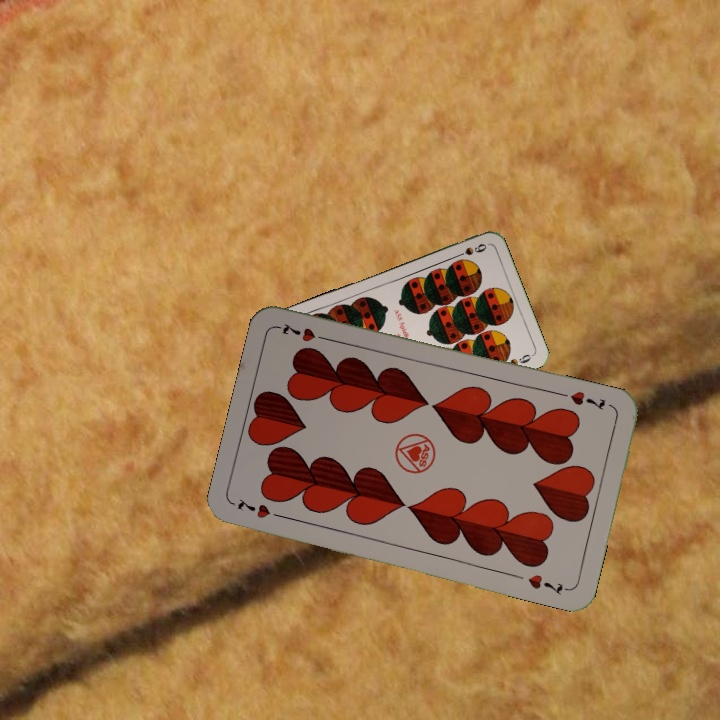H7: (233, 494, 289, 522), (566, 387, 608, 413)
S9: (450, 239, 489, 261)
